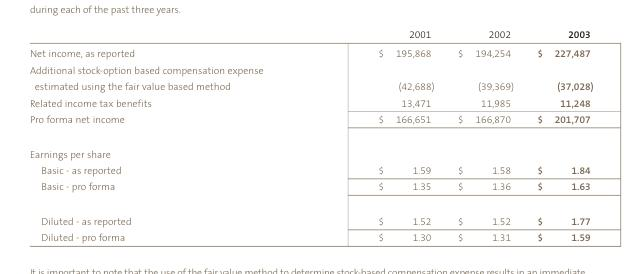table: (28, 28, 592, 243)
table column: (28, 28, 319, 243), (319, 28, 445, 243), (445, 28, 524, 243), (524, 28, 592, 243)
table column header: (28, 28, 592, 44)
table projected row header: (28, 136, 592, 161)
table row: (28, 61, 592, 94), (28, 110, 592, 136), (28, 203, 592, 229), (28, 136, 592, 161), (28, 178, 592, 203), (28, 44, 592, 61), (28, 161, 592, 178), (28, 28, 592, 44), (28, 94, 592, 110), (28, 229, 592, 243)
